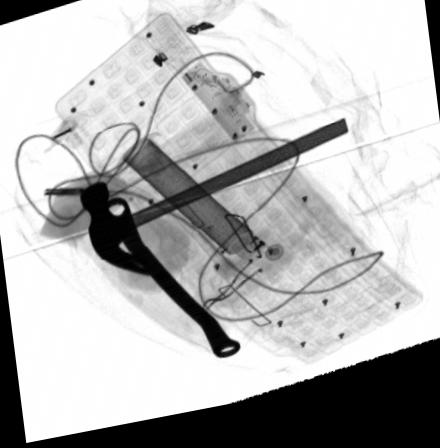Hammer: (79, 131, 347, 282)
Wrench: (103, 202, 240, 368)
